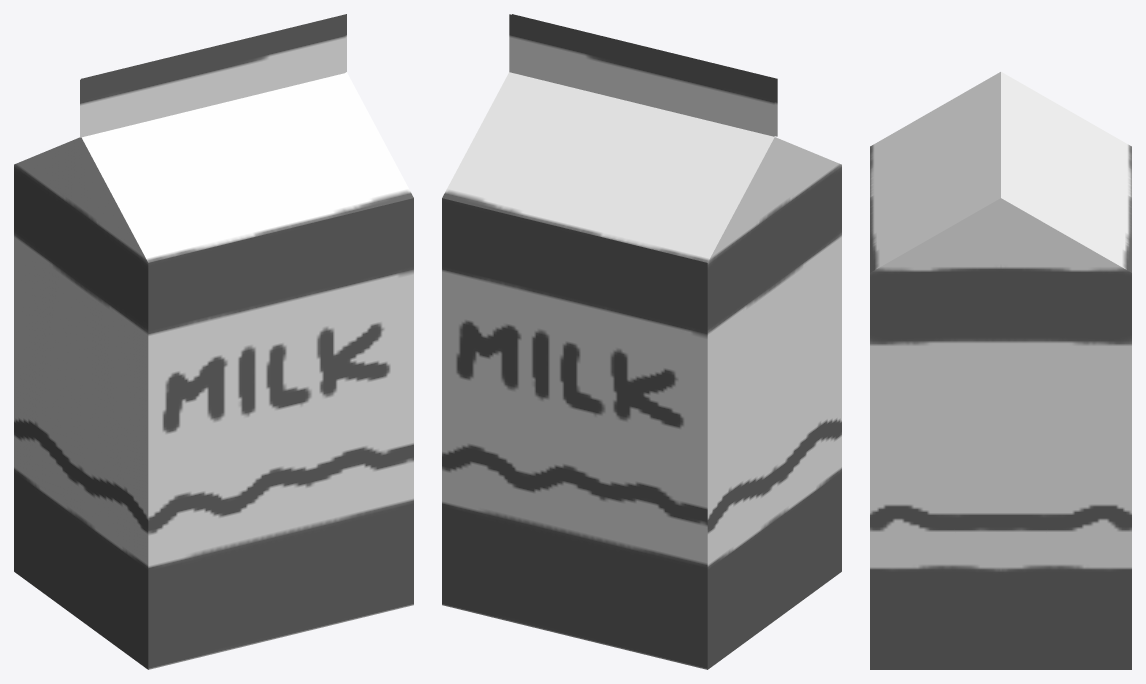
The model's file is MillkCarton.fbx.
3 views of the same model, side by side, from view 1: azimuth 30°, elevation 25°; view 2: azimuth 150°, elevation 25°; view 3: azimuth 270°, elevation 25° (orthographic). The views are drawn at different scales.
Parts seen in each view (by area): view 1: Cube; view 2: Cube; view 3: Cube.
Part boxes in pixels (x1=…): Cube: x1=14, y1=14, x2=413, y2=669; Cube: x1=442, y1=14, x2=841, y2=669; Cube: x1=870, y1=72, x2=1131, y2=669.
Bounding box in the file's own units: 56.97 × 110 × 49.51.
